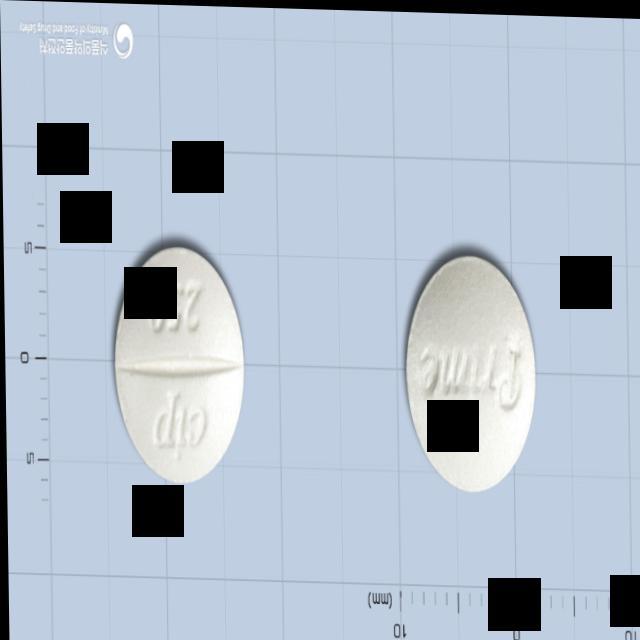Loxin: (402, 249, 535, 493), (111, 244, 245, 486)
